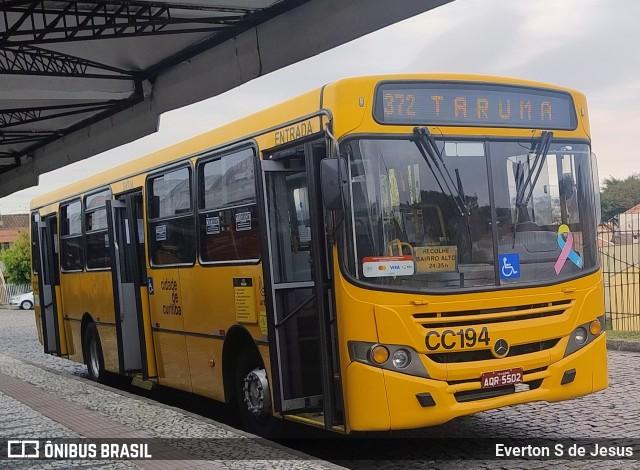TARUMA: (425, 89, 558, 130)
